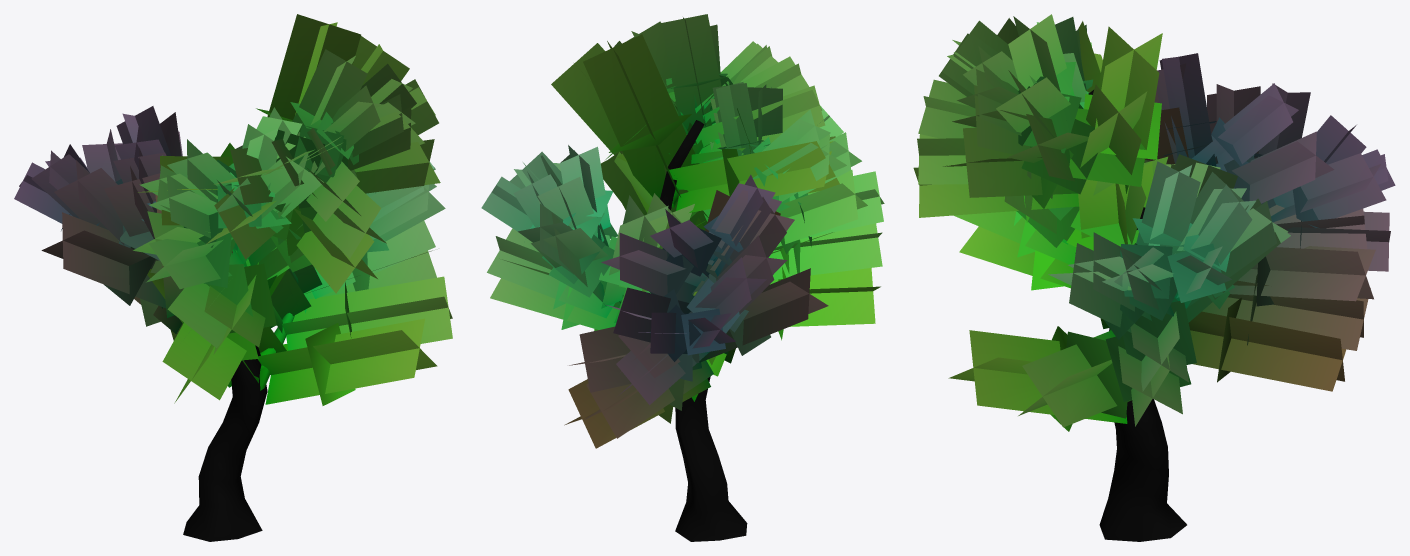
Rendered from tree_trial.fbx.
The picture shows the model from 3 angles, left to right: view 1: azimuth 30°, elevation 25°; view 2: azimuth 150°, elevation 25°; view 3: azimuth 270°, elevation 25°; orthographic projection. The views are drawn at different scales.
Parts seen in each view (by area): view 1: Tree_1, Tree_0; view 2: Tree_1, Tree_0; view 3: Tree_1, Tree_0.
Boxes of the visible parts, x1,y1,x2,y2 form: Tree_1: (14, 14, 452, 405); Tree_0: (183, 248, 294, 541); Tree_1: (481, 14, 884, 448); Tree_0: (619, 120, 747, 541); Tree_1: (913, 14, 1395, 431); Tree_0: (1088, 90, 1186, 541).
Bounding box in the file's own units: 176 × 230 × 184.
